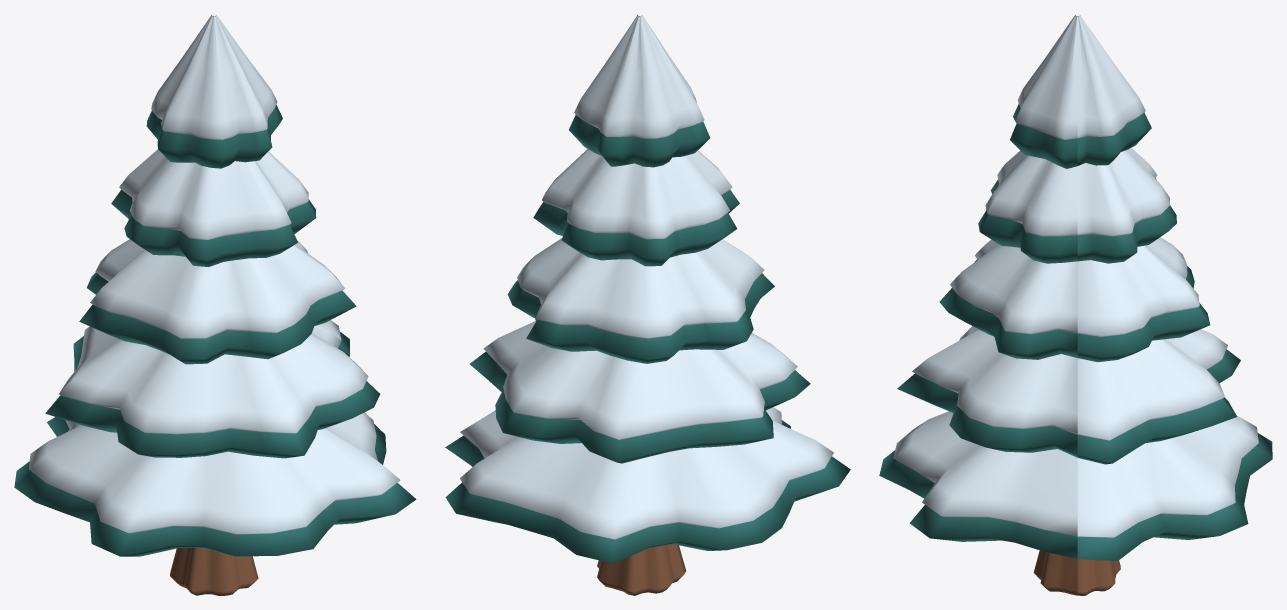
The model's file is pine_2.glb.
3 renders of one model, left to right at view 1: azimuth 30°, elevation 25°; view 2: azimuth 150°, elevation 25°; view 3: azimuth 270°, elevation 25°, orthographic.
Visible parts, largest first — view 1: snow_mantle_0, snow_mantle_1, snow_mantle_2, snow_mantle_3, branch_crown_0, snow_mantle_4, branch_crown_1, branch_crown_2, branch_crown_3, branch_crown_4, sculpted_trunk; view 2: snow_mantle_0, snow_mantle_1, snow_mantle_2, snow_mantle_3, branch_crown_0, snow_mantle_4, branch_crown_1, branch_crown_2, branch_crown_3, branch_crown_4, sculpted_trunk; view 3: snow_mantle_0, snow_mantle_1, snow_mantle_2, snow_mantle_3, branch_crown_0, snow_mantle_4, branch_crown_1, branch_crown_2, branch_crown_3, branch_crown_4, sculpted_trunk.
Part boxes in pixels (x1,y1,x2,y2): snow_mantle_0: (29, 412, 400, 534); snow_mantle_1: (59, 320, 368, 434); snow_mantle_2: (90, 239, 344, 338); snow_mantle_3: (119, 149, 308, 239); branch_crown_0: (14, 417, 416, 556); snow_mantle_4: (151, 15, 277, 139); branch_crown_1: (45, 332, 380, 458); branch_crown_2: (79, 272, 356, 364); branch_crown_3: (111, 189, 316, 267); branch_crown_4: (146, 105, 282, 168); sculpted_trunk: (170, 15, 258, 595); snow_mantle_0: (460, 407, 833, 539); snow_mantle_1: (483, 321, 797, 439); snow_mantle_2: (517, 238, 764, 338); snow_mantle_3: (542, 149, 732, 239); branch_crown_0: (445, 420, 850, 563); snow_mantle_4: (574, 15, 704, 138); branch_crown_1: (469, 352, 810, 463); branch_crown_2: (507, 273, 774, 363); branch_crown_3: (533, 190, 739, 266); branch_crown_4: (569, 115, 710, 167); sculpted_trunk: (597, 15, 685, 595); snow_mantle_0: (893, 411, 1258, 537); snow_mantle_1: (912, 326, 1227, 440); snow_mantle_2: (950, 237, 1199, 336); snow_mantle_3: (985, 148, 1169, 236); branch_crown_0: (879, 433, 1272, 560); snow_mantle_4: (1015, 15, 1145, 139); branch_crown_1: (897, 349, 1240, 464); branch_crown_2: (939, 259, 1210, 362); branch_crown_3: (978, 178, 1176, 263); branch_crown_4: (1010, 104, 1151, 168); sculpted_trunk: (1033, 15, 1120, 595).
Size of the model in its own units: 2.43 by 3.9 by 2.46.
